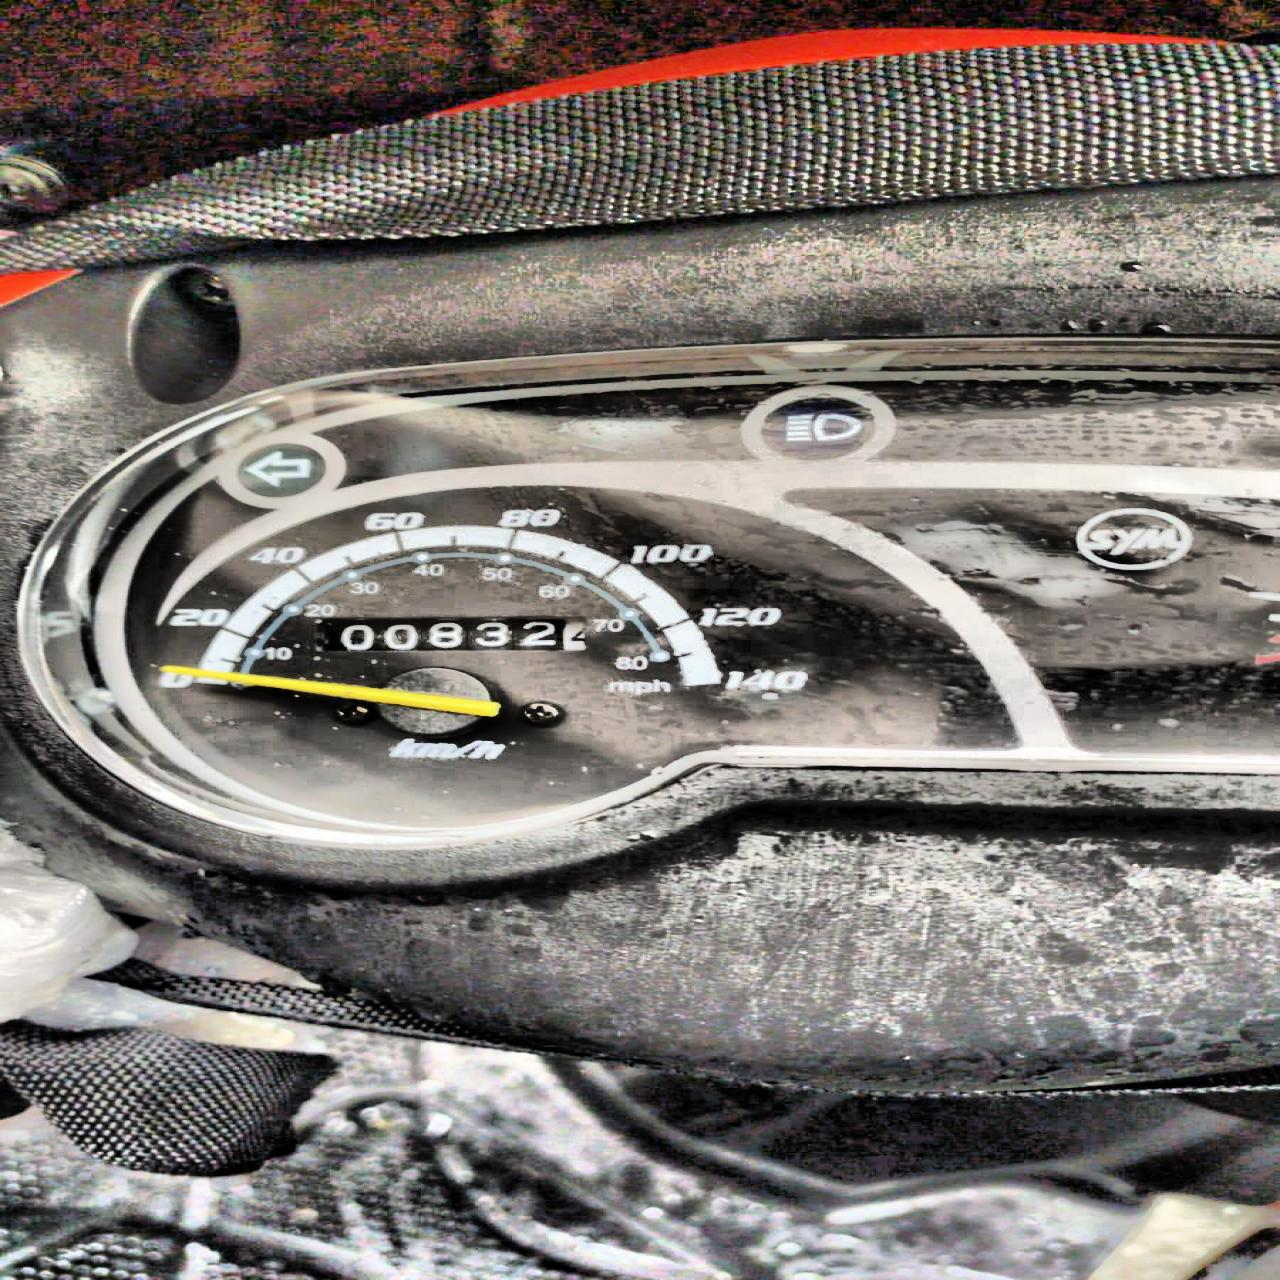0: (339, 624, 374, 649), (382, 624, 416, 649)
2: (519, 620, 556, 645)
3: (472, 621, 508, 646)
4: (567, 625, 591, 646)
8: (427, 621, 462, 648)
odometer: (312, 613, 591, 653)
